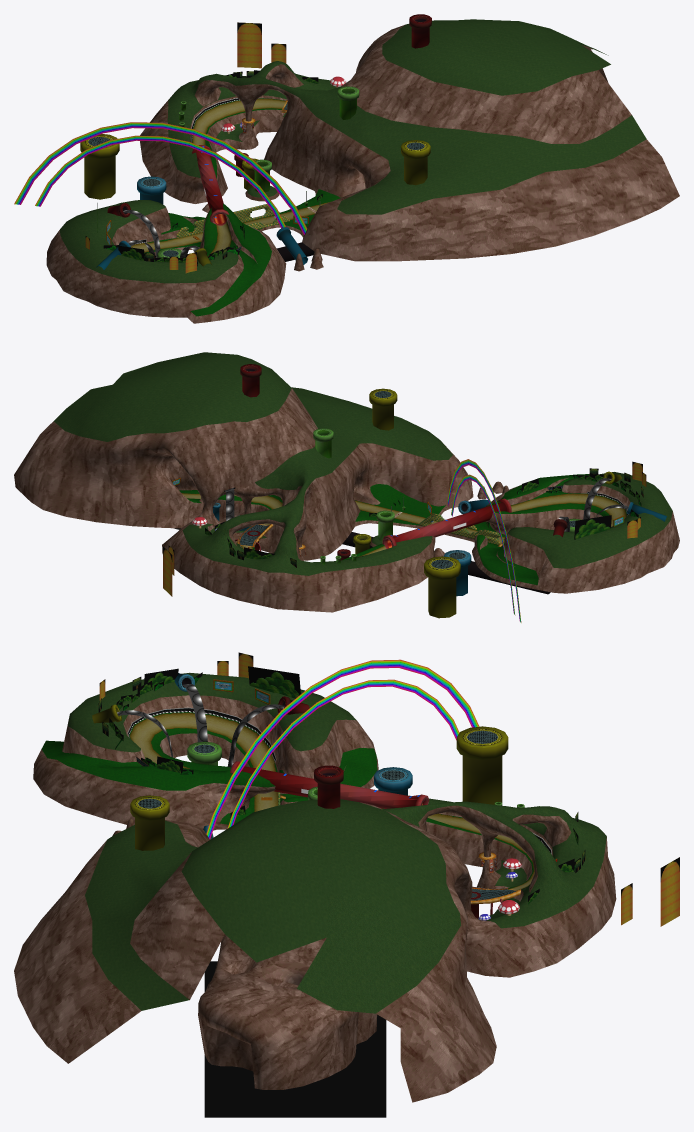
3 renders of one model, top to bottom at view 1: azimuth 30°, elevation 25°; view 2: azimuth 150°, elevation 25°; view 3: azimuth 270°, elevation 25°, orthographic. The views are drawn at different scales.
Parts seen in each view (by area): view 1: course-SKP--mountain1, road.013, course-SKP--dokan1, course-SKP--rainbow1, road.011, road.012, course-SKP--bush3, course-SKP--fence1, course-SKP--bush2, course-SKP--waterfall1, course-SKP--grid1; view 2: course-SKP--mountain1, road.013, course-SKP--dokan1, road.011, road.012, course-SKP--bush2, course-SKP--bush3, course-SKP--rainbow1, course-SKP--grid1, course-SKP--waterfall1, course-SKP--fence1; view 3: course-SKP--mountain1, road.013, course-SKP--dokan1, course-SKP--black1, road.011, course-SKP--rainbow1, road.012, course-SKP--bush2, course-SKP--bush3, course-SKP--waterfall1, course-SKP--grid1.
Part boxes in pixels (x1=…): course-SKP--mountain1: x1=46, y1=24, x2=679, y2=323; road.013: x1=60, y1=19, x2=646, y2=283; course-SKP--dokan1: x1=80, y1=14, x2=431, y2=269; course-SKP--rainbow1: x1=14, y1=122, x2=307, y2=234; road.011: x1=144, y1=108, x2=340, y2=316; road.012: x1=131, y1=98, x2=334, y2=256; course-SKP--bush3: x1=85, y1=22, x2=286, y2=273; course-SKP--fence1: x1=176, y1=204, x2=289, y2=238; course-SKP--bush2: x1=97, y1=70, x2=322, y2=262; course-SKP--waterfall1: x1=123, y1=210, x2=199, y2=257; course-SKP--grid1: x1=88, y1=102, x2=424, y2=256; course-SKP--mountain1: x1=14, y1=388, x2=679, y2=612; road.013: x1=54, y1=352, x2=672, y2=575; course-SKP--dokan1: x1=213, y1=364, x2=666, y2=618; road.011: x1=179, y1=463, x2=608, y2=585; road.012: x1=181, y1=492, x2=627, y2=558; course-SKP--bush2: x1=205, y1=474, x2=639, y2=559; course-SKP--bush3: x1=163, y1=461, x2=646, y2=596; course-SKP--rainbow1: x1=447, y1=459, x2=521, y2=622; course-SKP--grid1: x1=214, y1=391, x2=575, y2=568; course-SKP--waterfall1: x1=225, y1=478, x2=628, y2=531; course-SKP--fence1: x1=418, y1=513, x2=504, y2=544; course-SKP--mountain1: x1=14, y1=695, x2=616, y2=1102; road.013: x1=68, y1=672, x2=606, y2=1013; course-SKP--dokan1: x1=92, y1=673, x2=541, y2=918; course-SKP--black1: x1=204, y1=961, x2=386, y2=1117; road.011: x1=41, y1=728, x2=533, y2=888; course-SKP--rainbow1: x1=206, y1=659, x2=479, y2=839; road.012: x1=129, y1=712, x2=541, y2=889; course-SKP--bush2: x1=109, y1=666, x2=578, y2=904; course-SKP--bush3: x1=98, y1=652, x2=679, y2=926; course-SKP--waterfall1: x1=117, y1=684, x2=284, y2=767; course-SKP--grid1: x1=136, y1=730, x2=517, y2=900.
Size of what is drawn, in the model's own units: 12771 by 3659 by 9039.
Materials: 35 (34 with a texture image).
